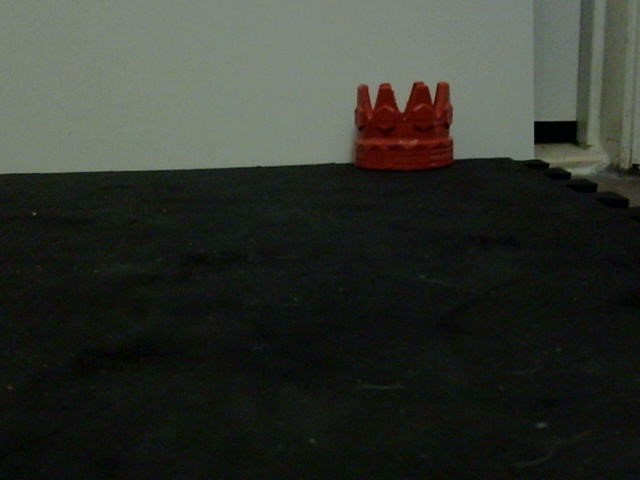crown: (354, 81, 456, 173)
